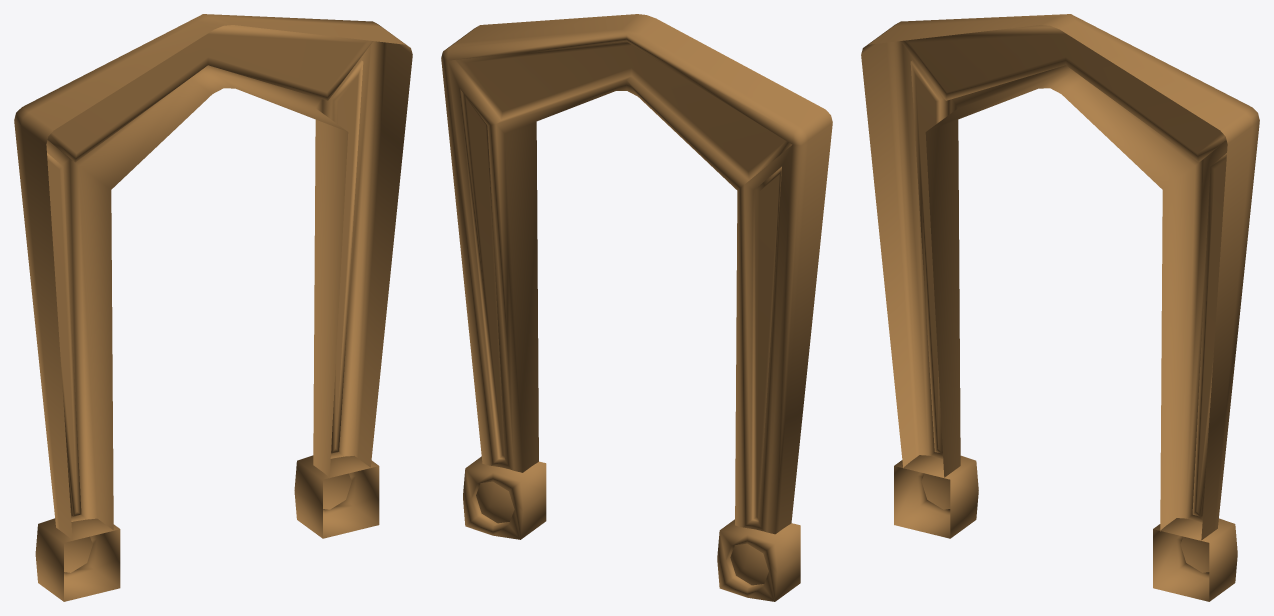
File: props_doorFrame_3.fbx
The picture shows the model from 3 angles, left to right: view 1: azimuth 30°, elevation 25°; view 2: azimuth 150°, elevation 25°; view 3: azimuth 330°, elevation 25°; orthographic projection.
Parts seen in each view (by area): view 1: door_frame3; view 2: door_frame3; view 3: door_frame3.
Boxes of the visible parts, x1,y1,x2,y2 form: door_frame3: [14, 14, 412, 601]; door_frame3: [441, 14, 832, 601]; door_frame3: [861, 14, 1259, 601].
Bounding box in the file's own units: 1.92 × 0.3347 × 2.71.
